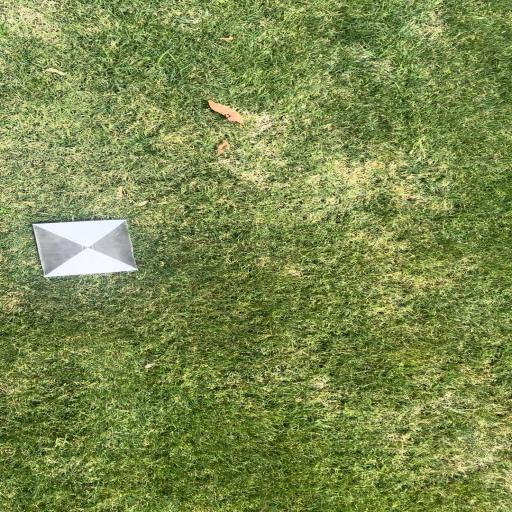target: (33, 219, 139, 277)
